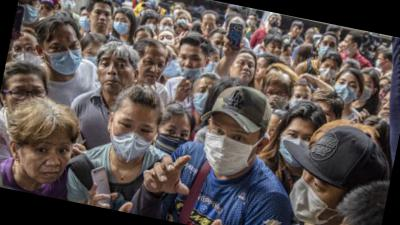mask_weared_incorrect: (174, 52, 207, 85), (266, 42, 287, 62), (38, 4, 55, 23), (340, 38, 355, 59)
with_mask: (198, 121, 260, 181), (283, 167, 342, 225), (105, 115, 158, 166), (44, 34, 87, 79), (275, 128, 314, 172), (152, 122, 192, 161), (8, 39, 45, 67), (332, 77, 361, 108), (190, 83, 213, 118), (262, 87, 291, 114), (163, 54, 184, 79), (317, 38, 339, 61), (208, 38, 229, 62), (319, 62, 341, 84), (289, 91, 313, 111), (111, 15, 132, 37), (357, 79, 375, 104), (202, 54, 222, 76), (83, 46, 103, 67), (77, 12, 94, 33), (158, 19, 177, 36), (157, 33, 175, 49), (142, 18, 159, 34), (264, 123, 278, 142), (281, 48, 295, 66), (176, 15, 190, 28), (268, 16, 281, 30), (112, 3, 123, 16), (374, 57, 384, 71), (172, 6, 183, 18), (246, 17, 256, 28), (223, 9, 231, 22)
without_mask: (20, 133, 76, 189), (94, 54, 138, 99), (3, 79, 49, 118), (135, 54, 167, 89), (228, 56, 257, 87), (88, 8, 114, 34), (200, 19, 218, 38), (380, 97, 394, 121), (253, 61, 267, 84), (293, 26, 303, 37)
